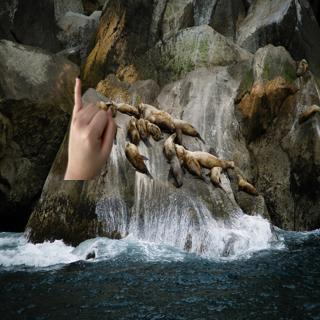FINE: (64, 76, 120, 169)
